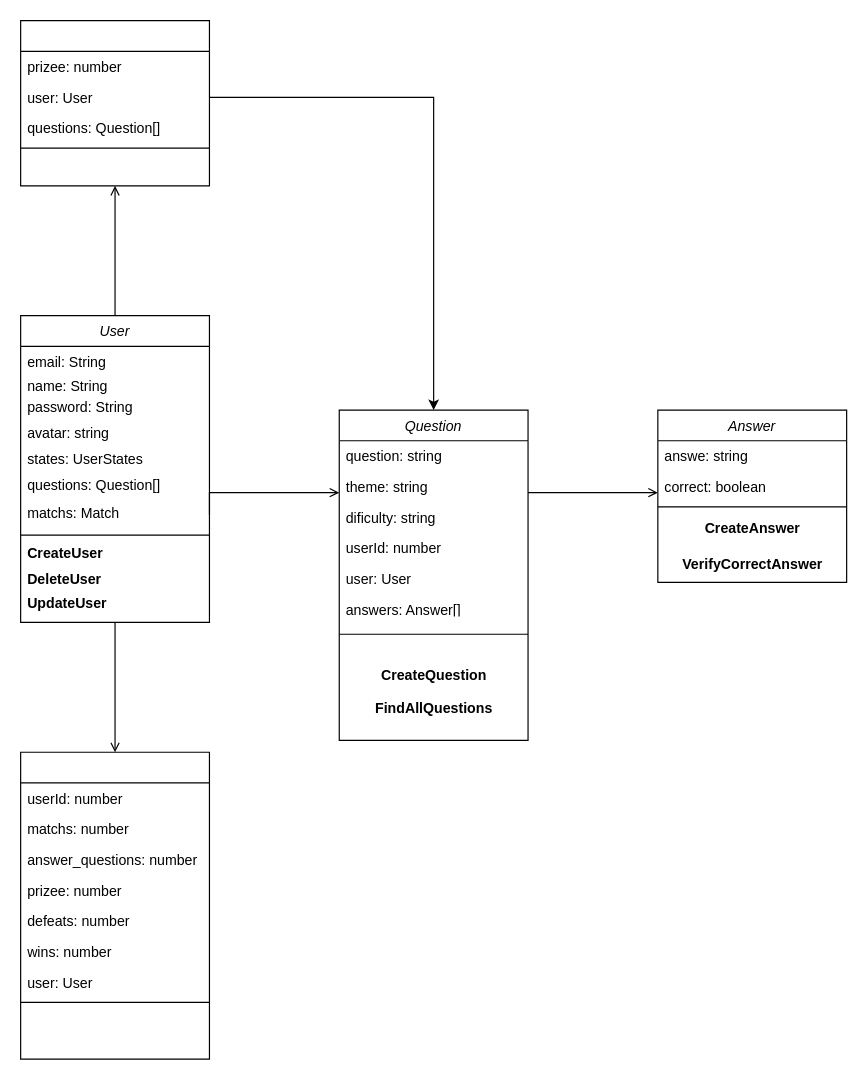
Some shapes in this 867 by 1080 pixel diagram are drawn without their labels. The box of each missing label's shape, as (x1, y1, x2, y2) in pixels:
Match: (19, 19, 209, 186)
UserStates: (19, 751, 209, 1059)
